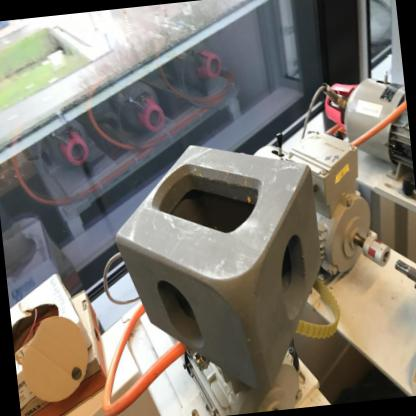CornerCasting: (104, 126, 338, 408)
